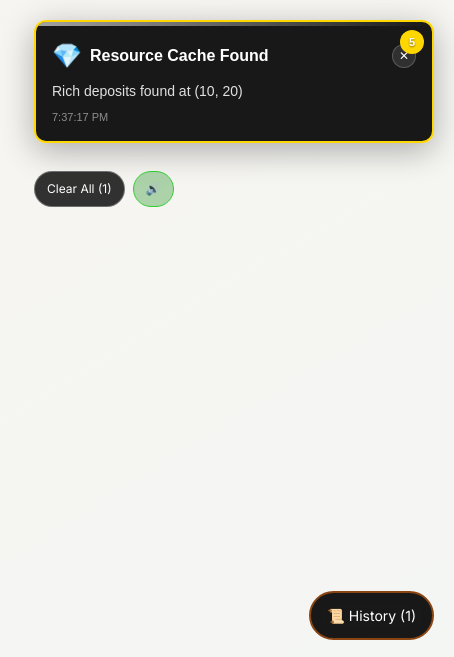
Test: DiscoveryNotifications › should toggle sound on/off
The width and height of the screenshot is (454, 657).
Expected: the heading "Resource Cache Found" is shown, [90, 47, 269, 64]
Click the button "🔊". click: [153, 189]
box: [132, 171, 174, 207]
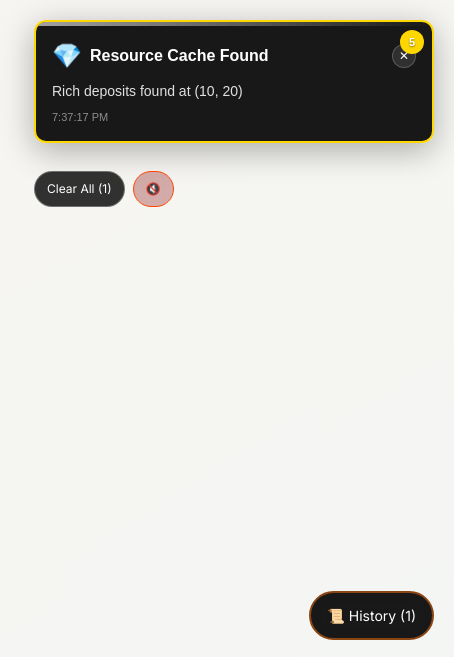
Result: the button "🔇" is shown at [132, 171, 174, 207]
